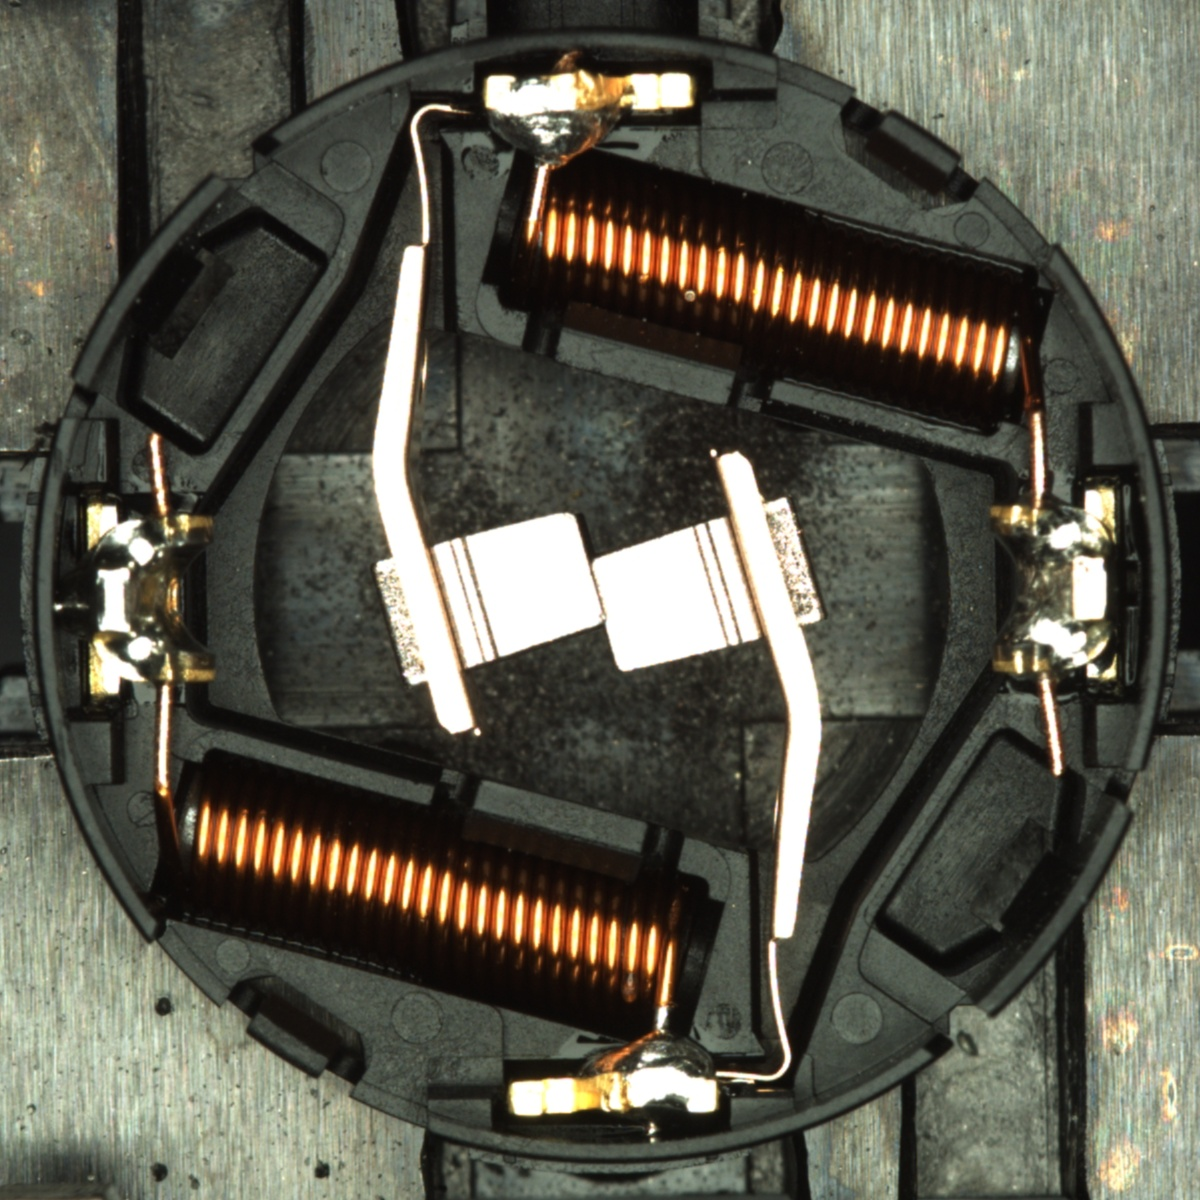1: (255, 31, 485, 255), (713, 929, 943, 1153)
2: (713, 31, 943, 255), (255, 929, 485, 1153)
3: (943, 703, 1173, 929), (26, 255, 255, 479)
4: (713, 703, 943, 929), (255, 255, 485, 479)
5: (485, 815, 713, 1041), (485, 143, 713, 367)
6: (255, 703, 485, 929), (713, 255, 943, 479)
7: (26, 703, 255, 929), (943, 255, 1173, 479)
cacbon: (399, 499, 799, 684)
chau_dien: (80, 496, 222, 699), (982, 486, 1123, 685)
tay_choi: (481, 68, 699, 170), (505, 1027, 721, 1122)
thanh_de: (954, 784, 1142, 1032), (59, 164, 245, 405)
vun_chi: (51, 574, 96, 635)
